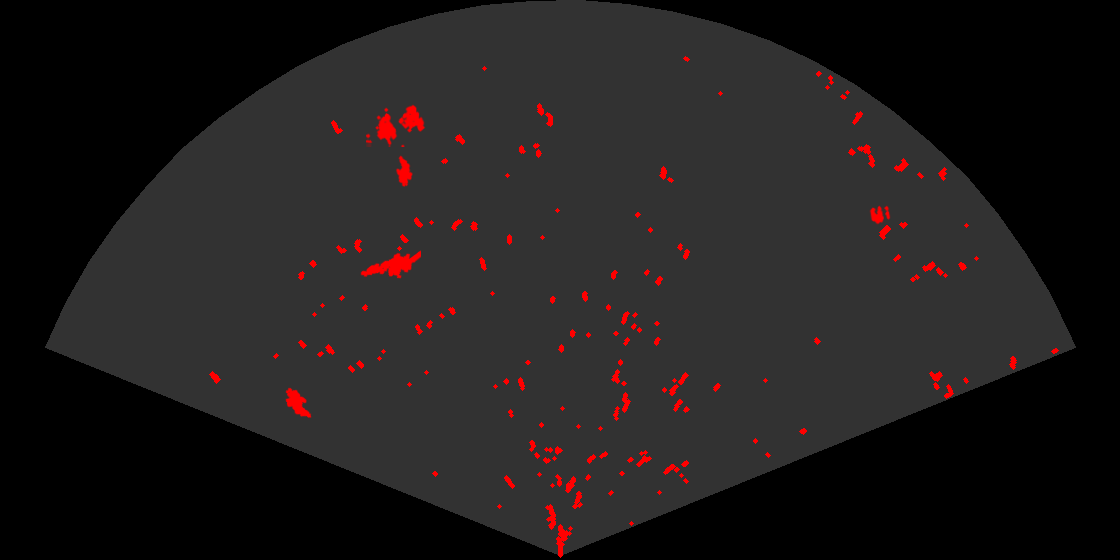AUV: (284, 386, 313, 420), (394, 154, 414, 188)
ball: (868, 204, 892, 226)
cage: (366, 103, 427, 147)
frogman: (359, 249, 421, 280)
